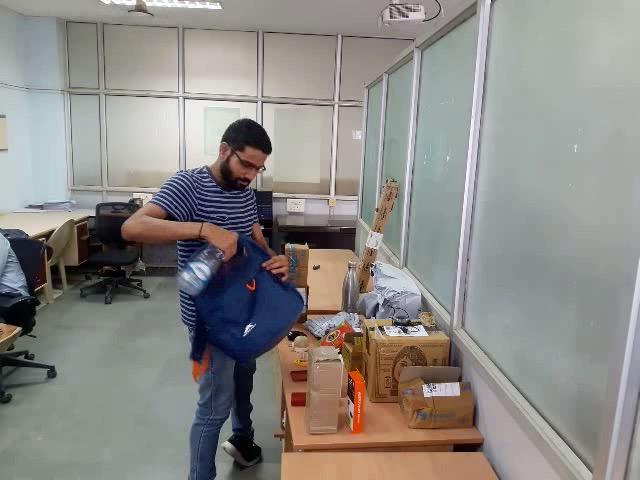shoplifting: (159, 226, 318, 400)
